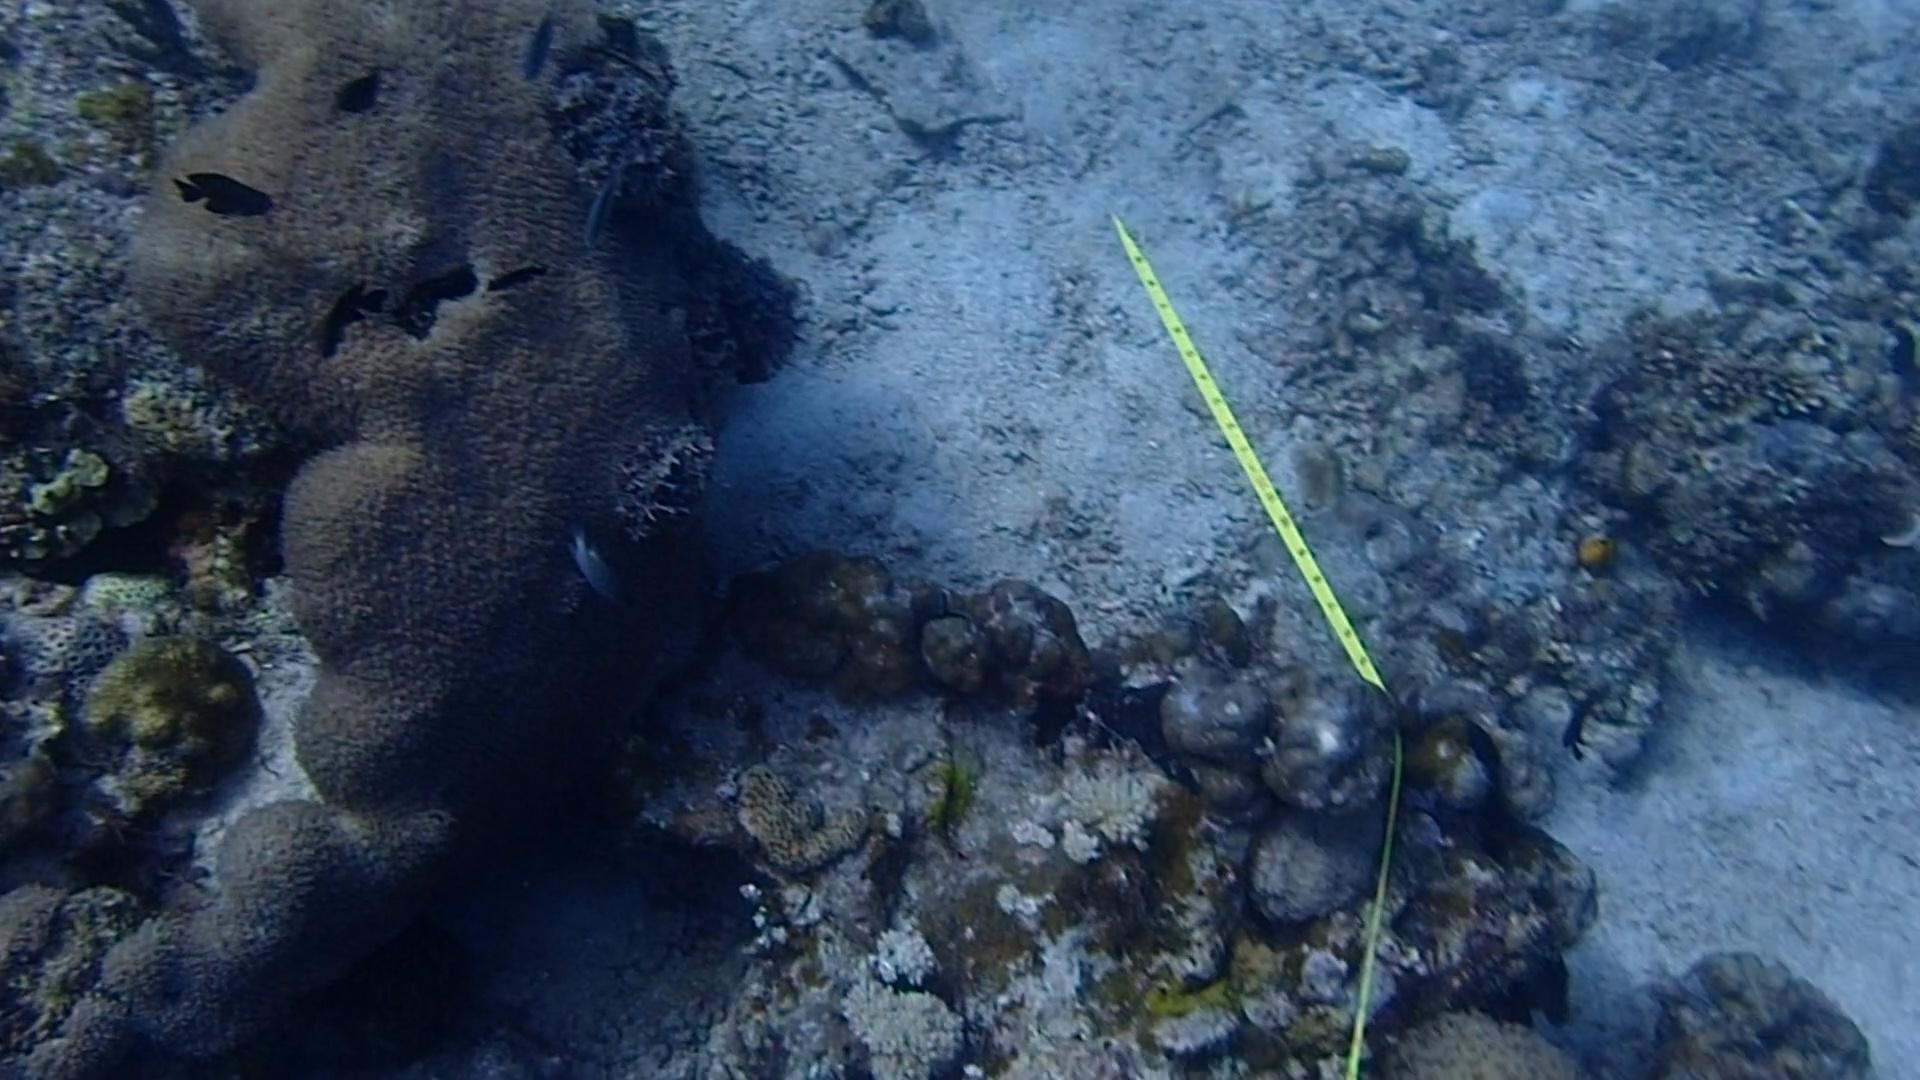Dark Fish: (154, 161, 282, 228), (297, 277, 392, 356), (1551, 678, 1617, 760), (475, 248, 555, 307), (1451, 704, 1509, 781), (328, 63, 392, 128), (1875, 309, 1920, 382)
Light Fish: (566, 154, 637, 261), (547, 516, 629, 604), (516, 12, 570, 88)
